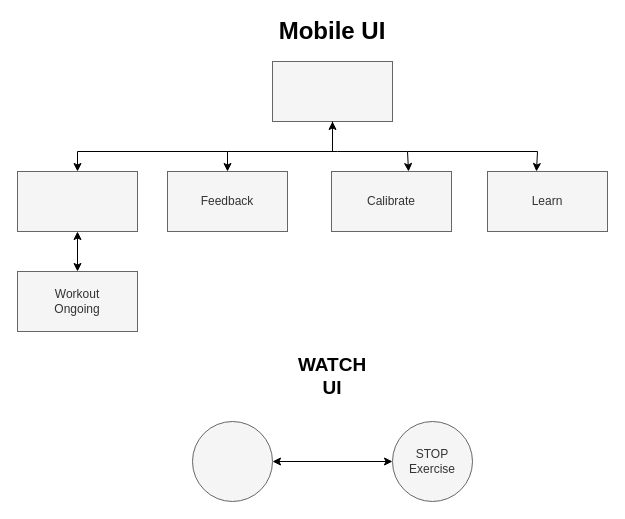
This 625x519 diagram has some shape labels left out. The shapes that lost their labels are listed below. From the top down, each one's box as (x1, y1, x2, y2) in pixels, then its label:
(272, 60, 392, 122): Home
(16, 170, 138, 232): Workout Start
(192, 420, 272, 502): START Exercise
